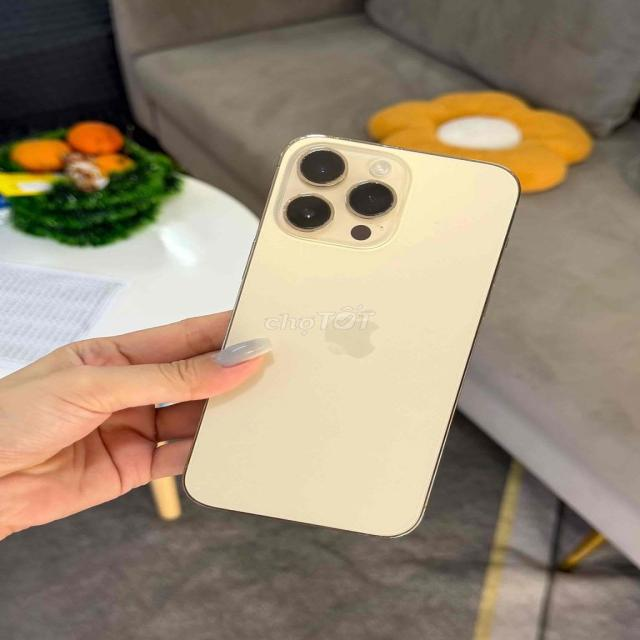gen_14: (180, 129, 514, 546)
